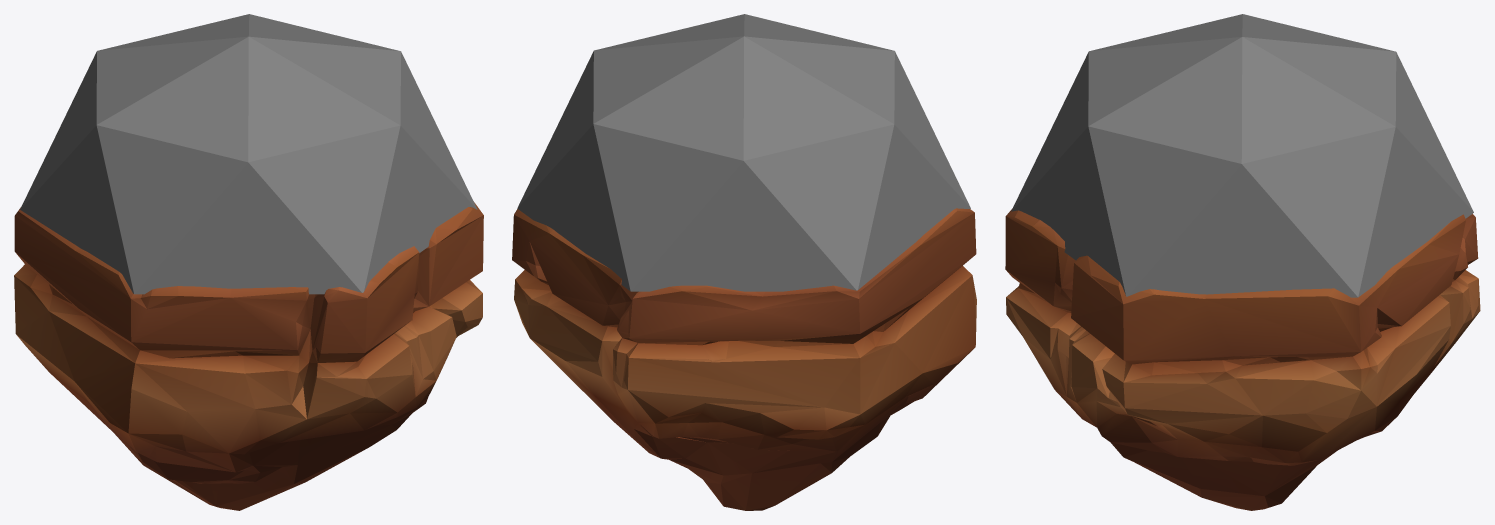
The model's file is DevelopingFertile.fbx.
The picture shows the model from 3 angles, left to right: view 1: azimuth 30°, elevation 25°; view 2: azimuth 150°, elevation 25°; view 3: azimuth 270°, elevation 25°; orthographic projection. The views are drawn at different scales.
Visible parts, largest first — view 1: Bubble3, Merged_PM3D_Cylinder3D_10; view 2: Bubble3, Merged_PM3D_Cylinder3D_10; view 3: Bubble3, Merged_PM3D_Cylinder3D_10.
Part boxes in pixels (<box>): Bubble3: <box>20,14,477,294</box>; Merged_PM3D_Cylinder3D_10: <box>14,202,483,510</box>; Bubble3: <box>517,14,970,291</box>; Merged_PM3D_Cylinder3D_10: <box>512,208,976,510</box>; Bubble3: <box>1011,14,1473,297</box>; Merged_PM3D_Cylinder3D_10: <box>1005,208,1480,510</box>.
Size of the model in its own units: 1.74 by 2.21 by 2.
